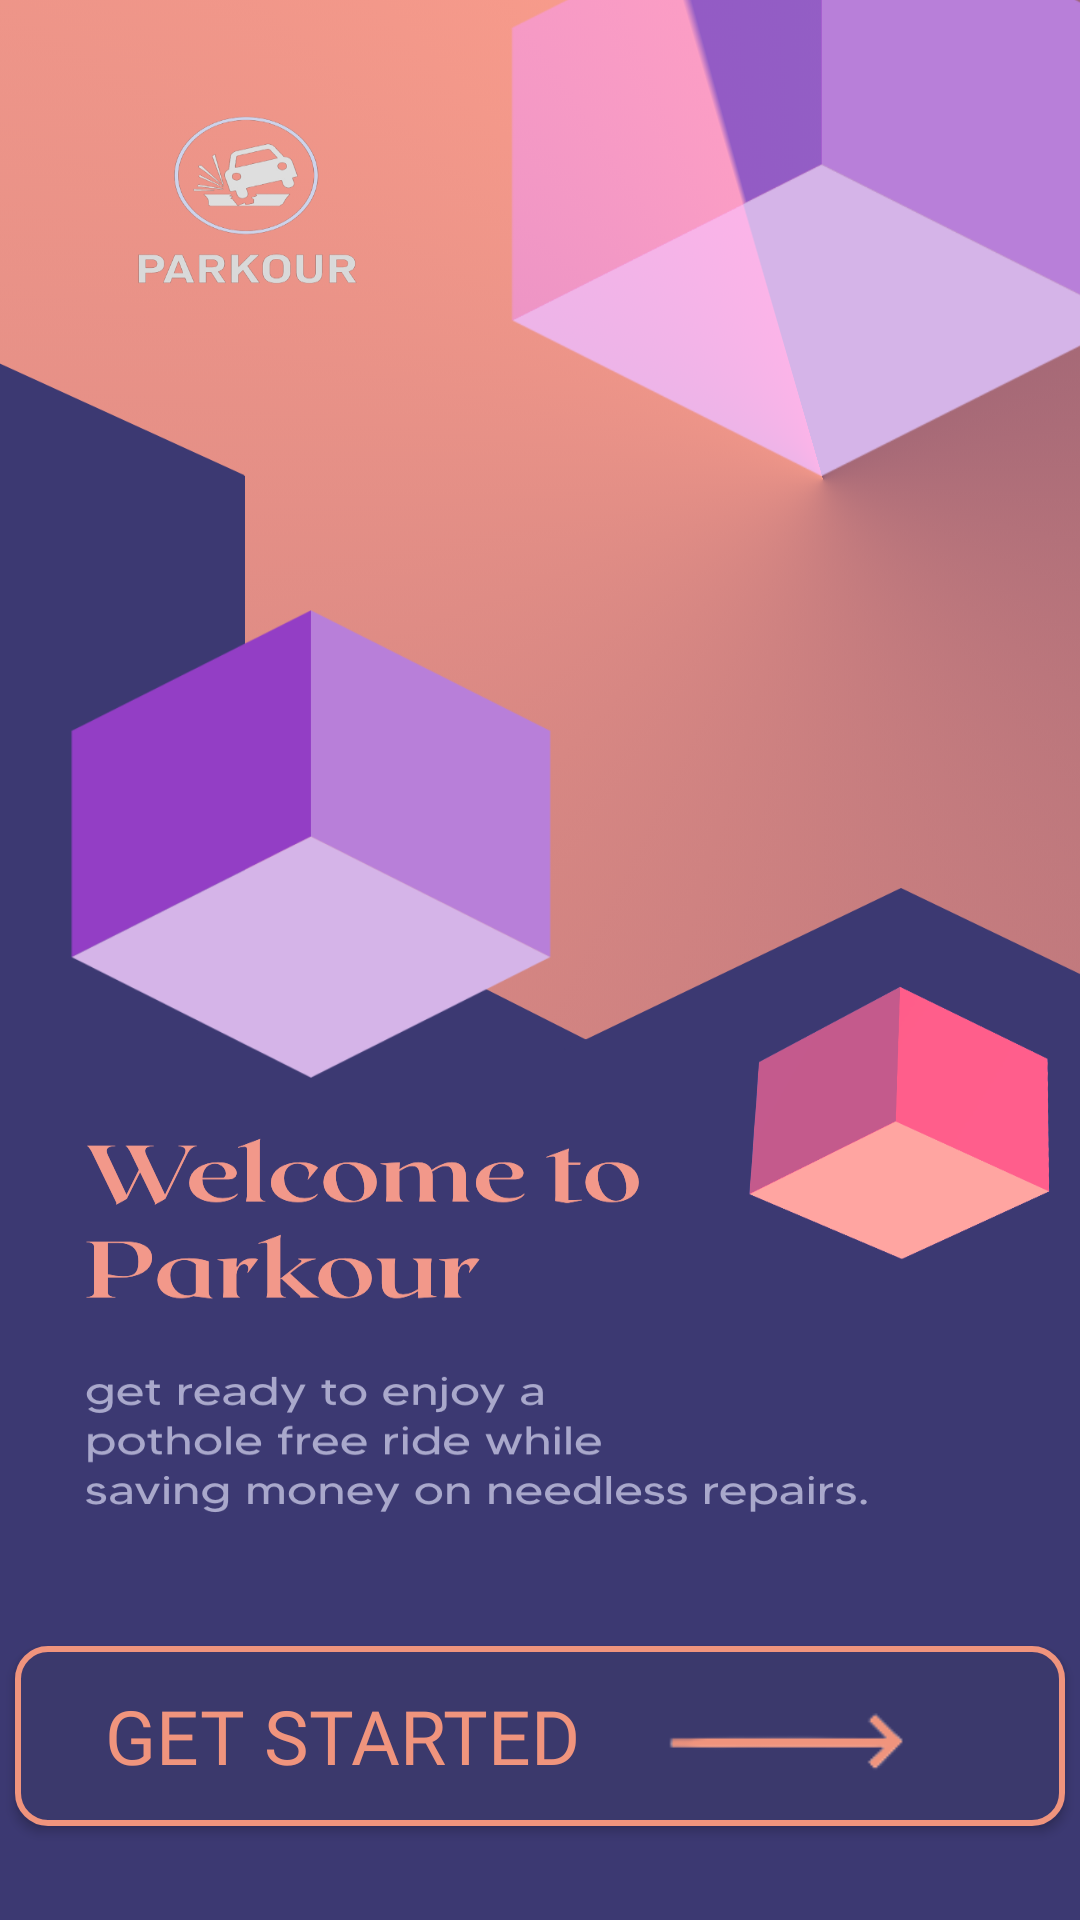

Locate icon controls on the screen. Image size 1080 x 1920, boxes as detection(x1, y1, x2, y2).
arrow: detection(670, 1714, 903, 1769)
